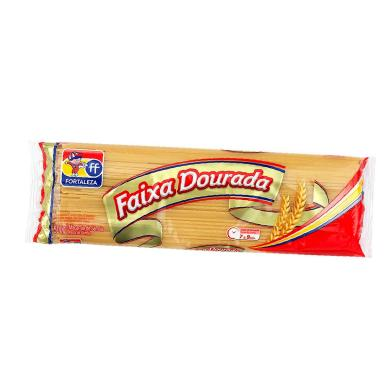pasta package: (28, 143, 374, 256)
